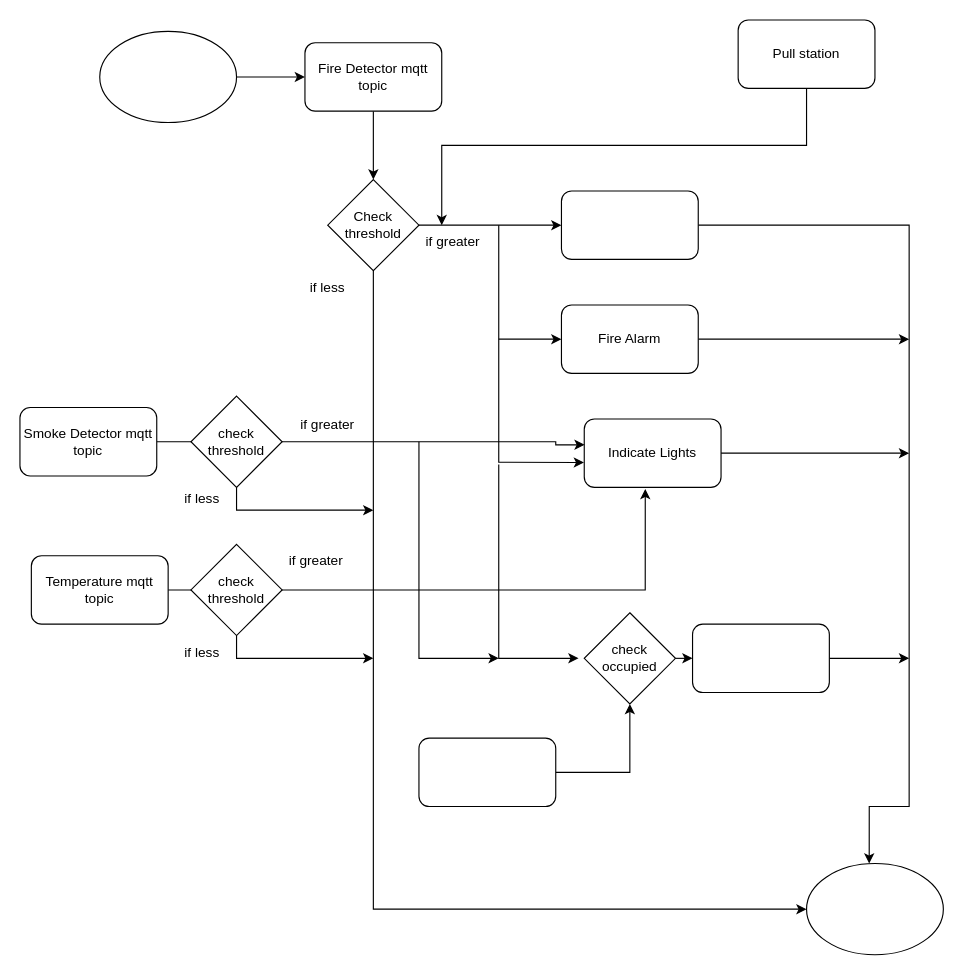
This 963x975 diagram has some shape labels left out. Each missing label, with the centre of its shape:
End: pixel 874 908
Indicate occupied rooms: pixel 760 658
Occupancy data mqtt topic: pixel 487 772
Start: pixel 168 76
Turn on sprinkler: pixel 629 224
